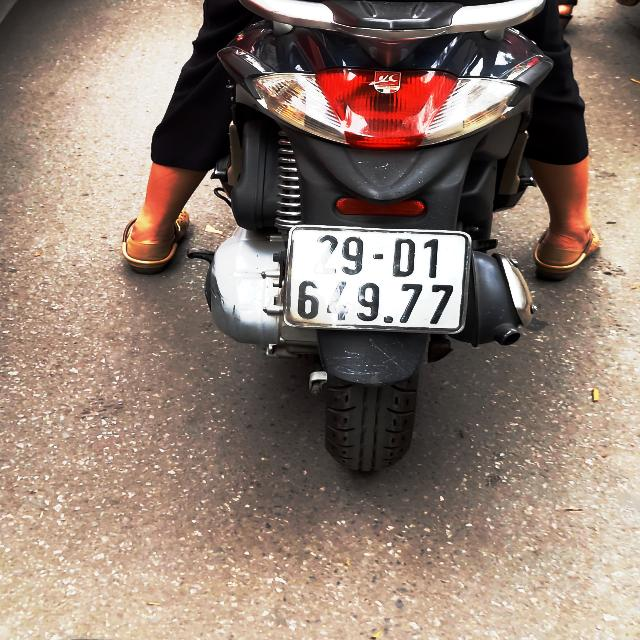license_plate: (286, 228, 470, 335)
